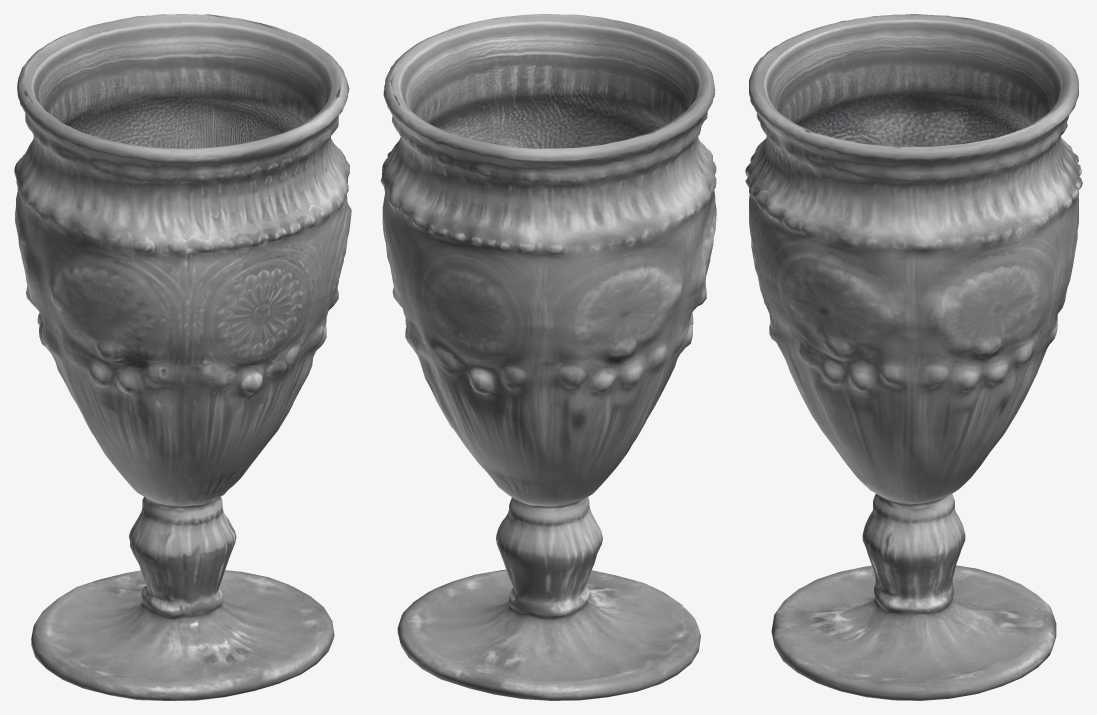
Rendered from Glass_Goblet_Vintage_Grey_9.8InchesTall_Tabletop_0222192831_texture.glb.
3 views of the same model, side by side, from view 1: azimuth 30°, elevation 25°; view 2: azimuth 150°, elevation 25°; view 3: azimuth 270°, elevation 25° (orthographic).
Parts seen in each view (by area): view 1: Mesh_0.002; view 2: Mesh_0.002; view 3: Mesh_0.002.
Part boxes in pixels (x1,y1,x2,y2): Mesh_0.002: [14, 14, 351, 700]; Mesh_0.002: [380, 14, 716, 700]; Mesh_0.002: [745, 14, 1082, 700].
Size of the model in its own units: 0.1354 by 0.2489 by 0.1365.
Materials: 1 (1 with a texture image).
